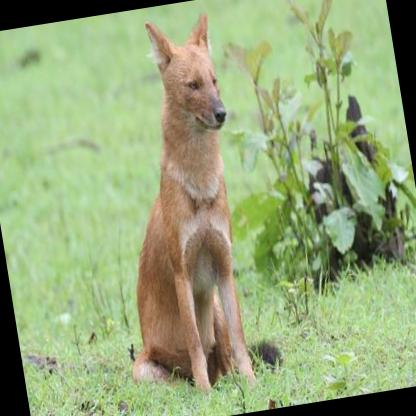dhole: (77, 7, 284, 402)
